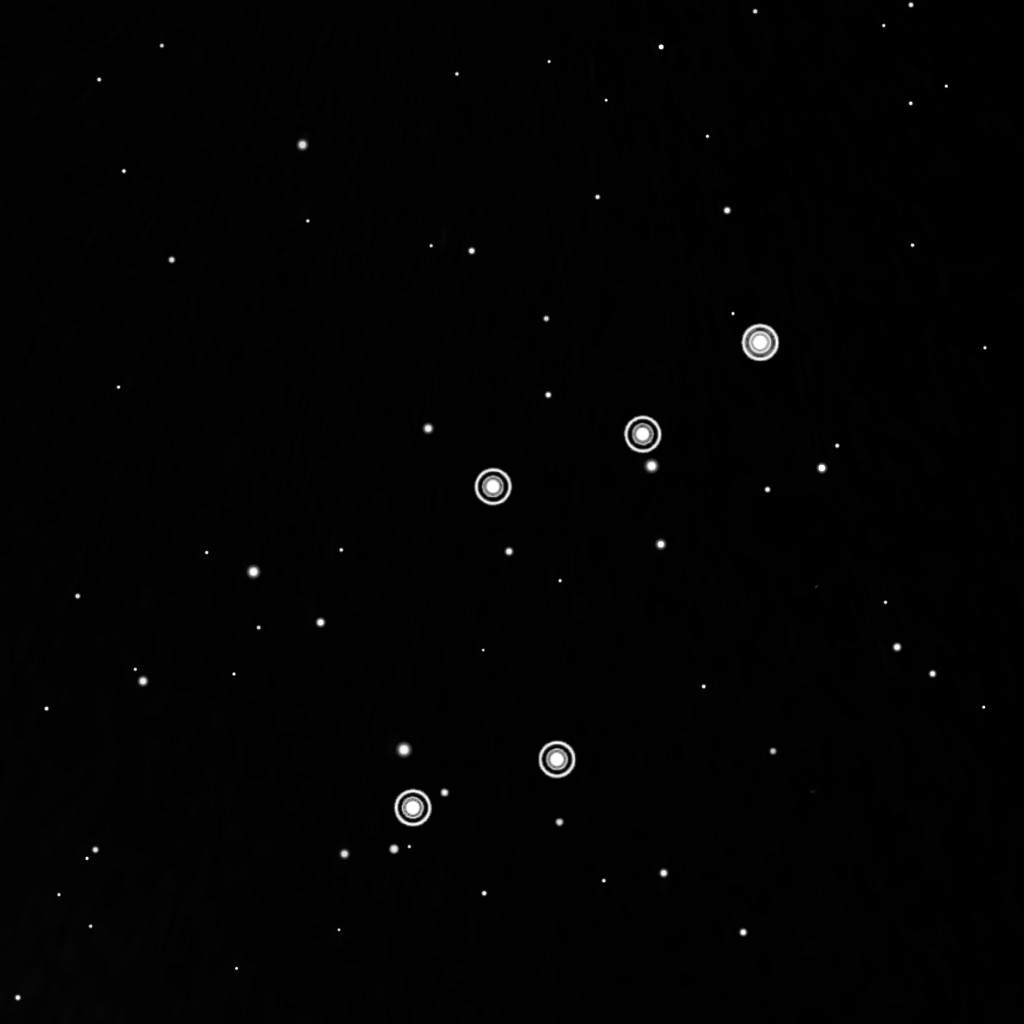lyra: (381, 311, 788, 846)
